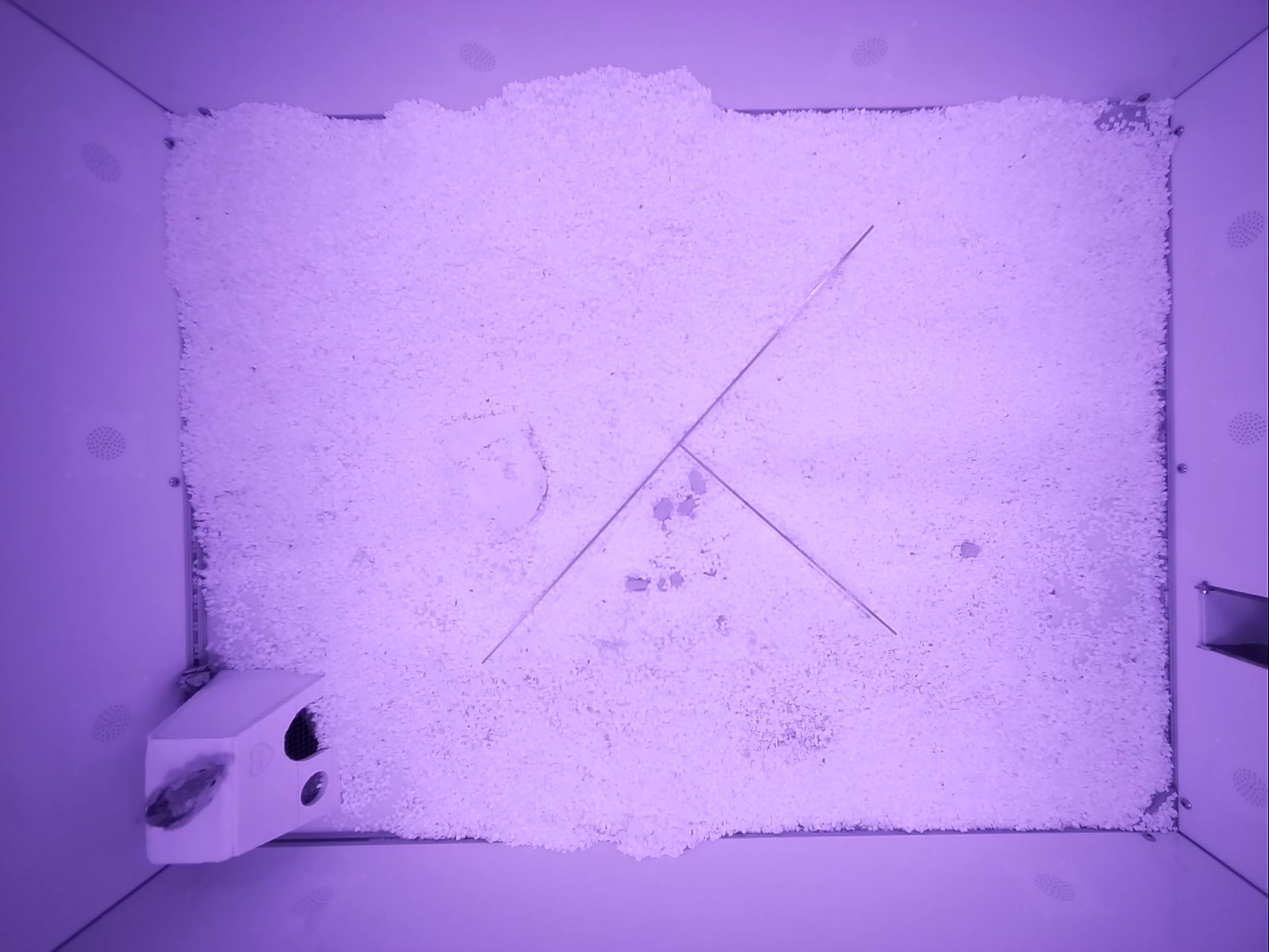adult_back: (144, 756, 230, 829)
